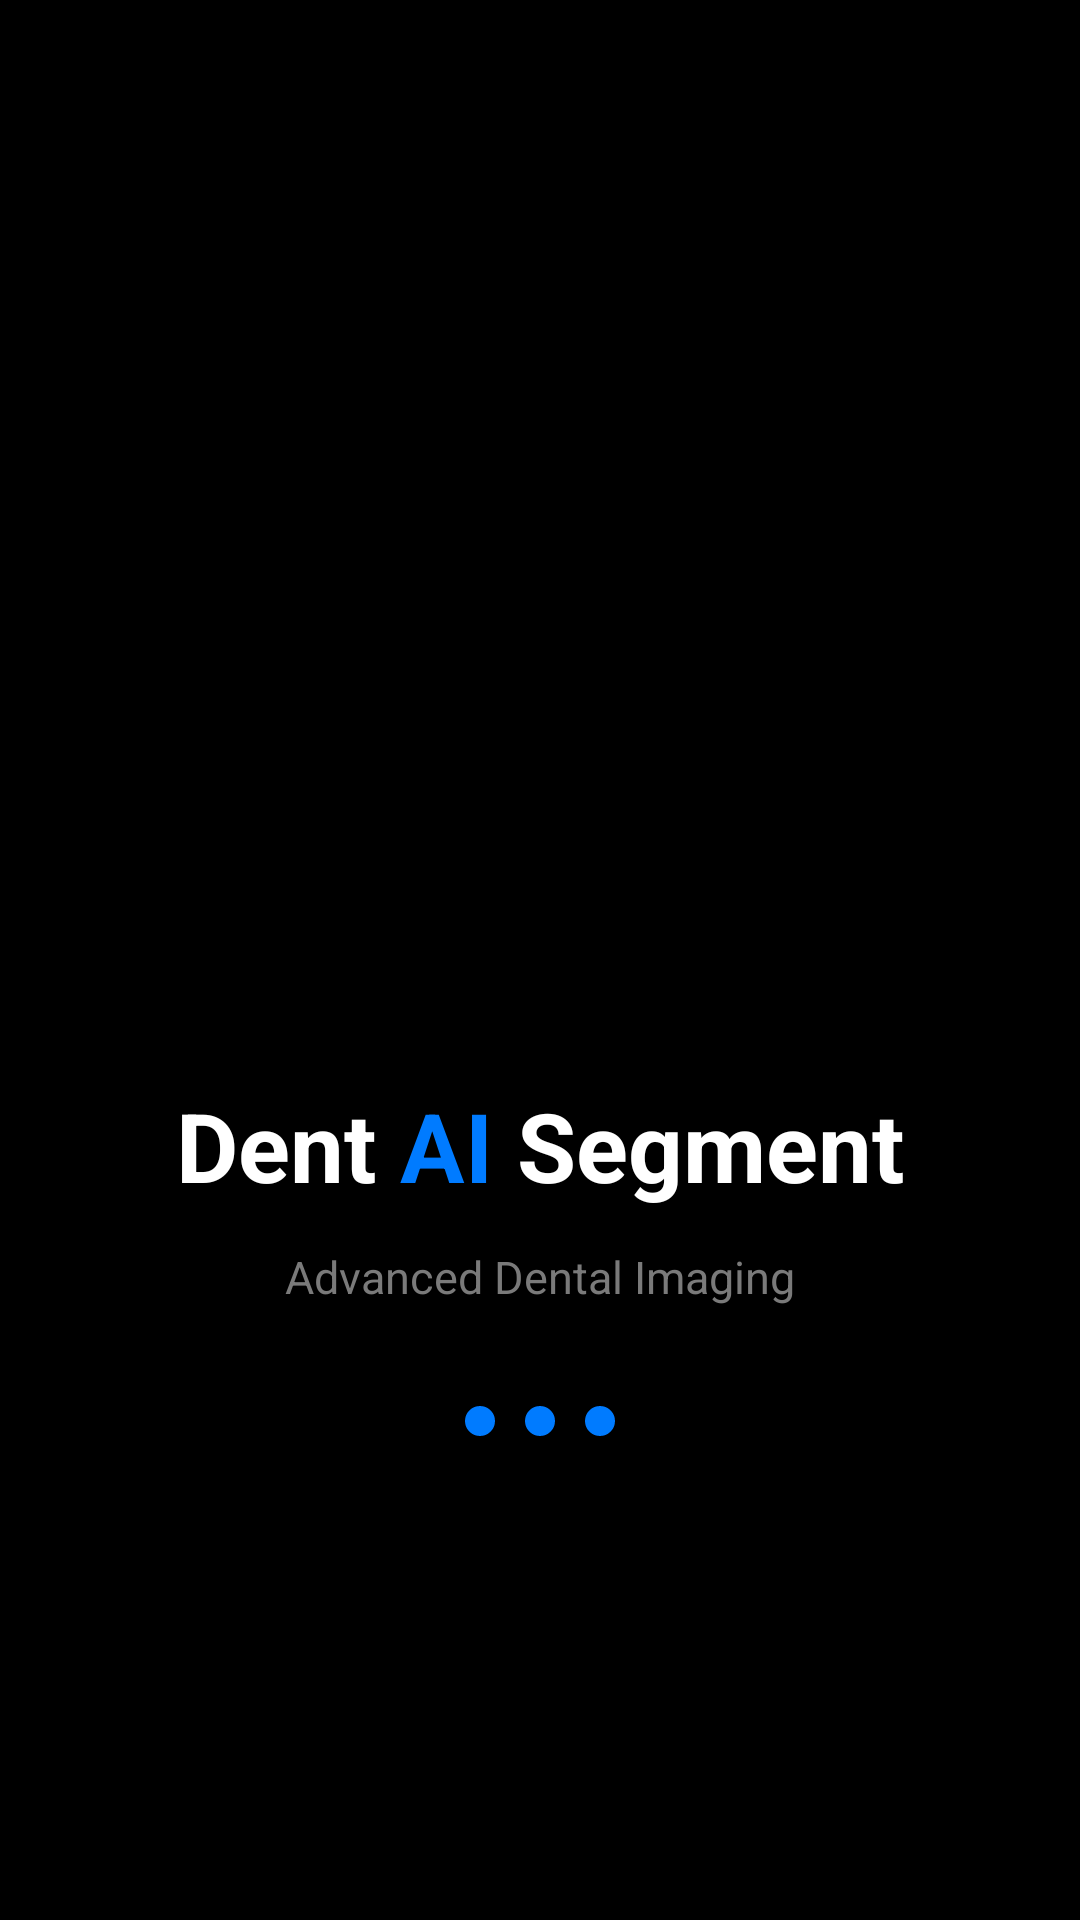

Named icons in this screenshot (1080 x 1920) and their bounding boxes, bbox(x1, y1, x2, y2):
dot: bbox(465, 1406, 495, 1436), bbox(525, 1406, 555, 1436), bbox(585, 1406, 615, 1436)
